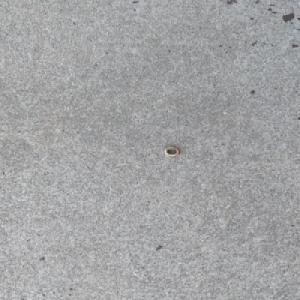Nut: (163, 146, 180, 156)
